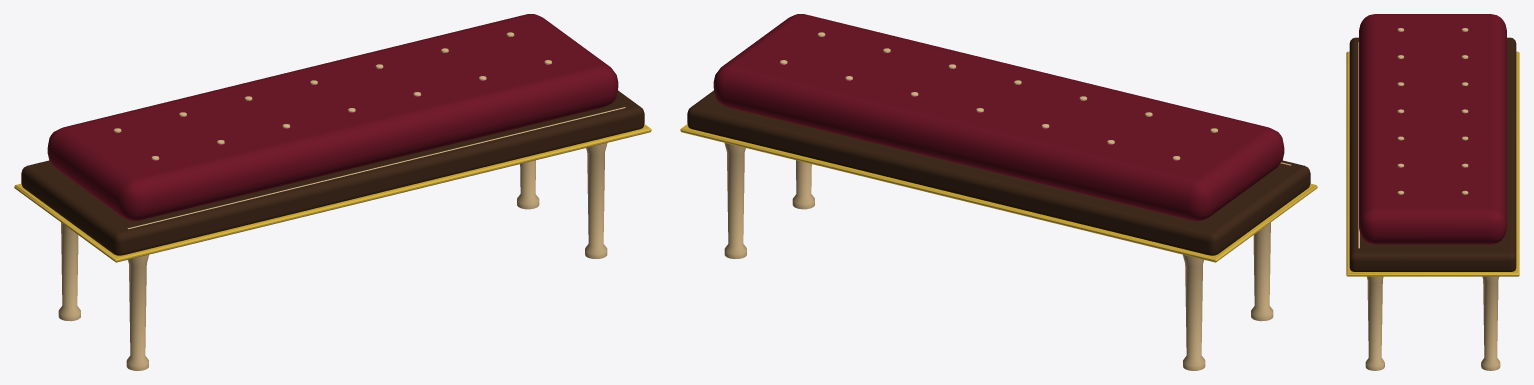
The model's file is bench.glb.
3 views of the same model, side by side, from view 1: azimuth 30°, elevation 25°; view 2: azimuth 150°, elevation 25°; view 3: azimuth 270°, elevation 25° (orthographic). The views are drawn at different scales.
Parts seen in each view (by area): view 1: bench_seat, bench_woodDark, bench_brass, bench_gold; view 2: bench_seat, bench_woodDark, bench_brass, bench_gold; view 3: bench_seat, bench_woodDark, bench_brass, bench_gold.
Part boxes in pixels (x1,y1,x2,y2): bench_seat: (47, 14, 618, 220); bench_woodDark: (21, 90, 644, 255); bench_brass: (58, 32, 625, 370); bench_gold: (14, 124, 651, 262); bench_seat: (713, 14, 1284, 220); bench_woodDark: (687, 90, 1310, 255); bench_brass: (724, 32, 1291, 370); bench_gold: (680, 124, 1317, 262); bench_seat: (1359, 14, 1506, 244); bench_woodDark: (1349, 37, 1516, 271); bench_brass: (1358, 28, 1500, 370); bench_gold: (1346, 51, 1519, 276).
Size of the model in its own units: 1.64 by 0.5571 by 0.54.
